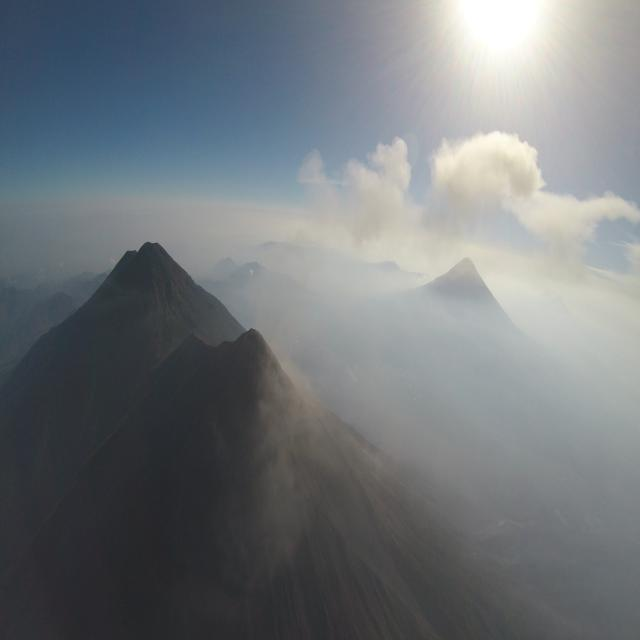Plume: (428, 116, 546, 232), (293, 134, 414, 245)
Summit: (243, 320, 266, 346)
